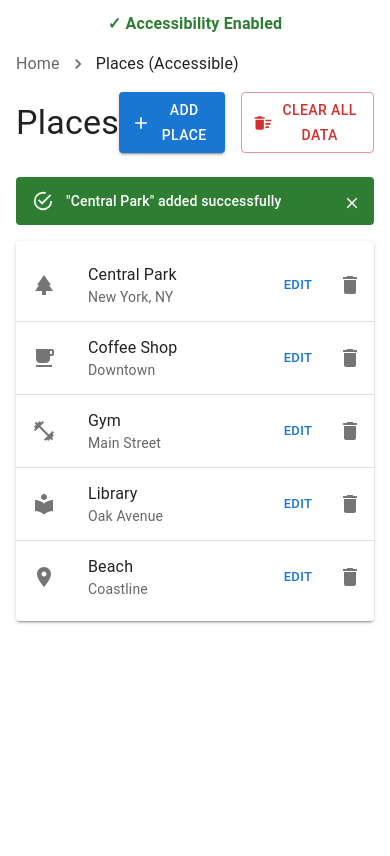
it: Places Component › can close success banner
Expected: the text "\"Central Park\" added successfully" is shown, [66,193,281,209]
What coordinates should you click on to do the following:
click the button named "Close"
I would click on:
 (352, 203)
Its box is [338,189,366,217].
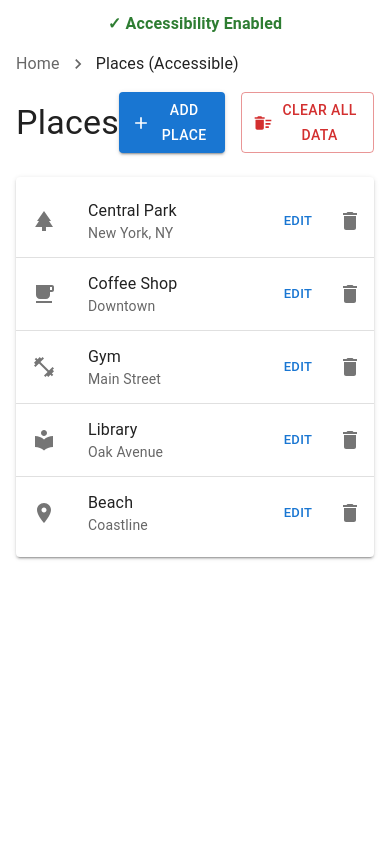
Result: the text "\"Central Park\" added successfully" is gone
